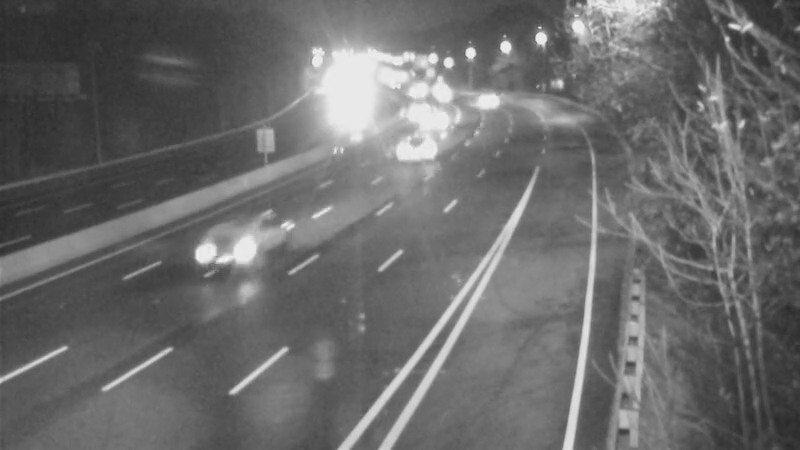vehicle: (183, 222, 263, 302), (390, 87, 440, 137), (409, 99, 459, 149), (397, 124, 447, 174)
